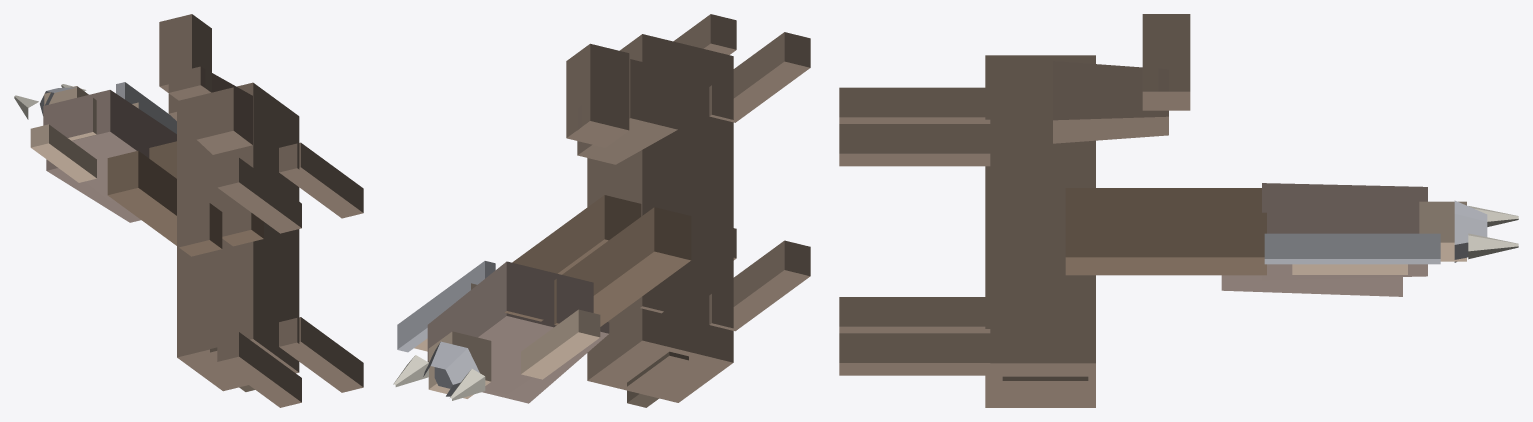
The model's file is cavalry.glb.
3 renders of one model, left to right at view 1: azimuth 30°, elevation 25°; view 2: azimuth 150°, elevation 25°; view 3: azimuth 270°, elevation 25°, orthographic. The views are drawn at different scales.
Visible parts, largest first — view 1: cavalry; view 2: cavalry; view 3: cavalry.
Part boxes in pixels (box(x1,y1,x2,y2)): cavalry: box(14, 14, 363, 407); cavalry: box(393, 14, 810, 407); cavalry: box(839, 14, 1518, 407).
Bounding box in the file's own units: 0.6 × 1.66 × 2.7.
